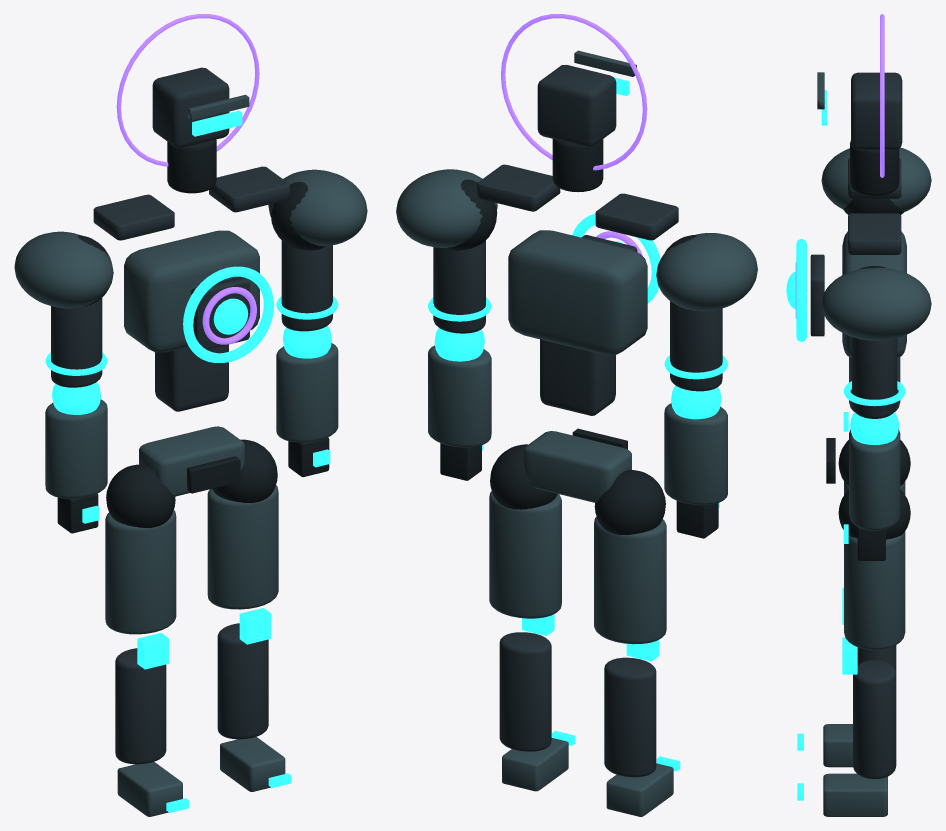
Rendered from taker-agent.glb.
The picture shows the model from 3 angles, left to right: view 1: azimuth 30°, elevation 25°; view 2: azimuth 150°, elevation 25°; view 3: azimuth 270°, elevation 25°; orthographic projection. The views are drawn at different scales.
Parts seen in each view (by area): view 1: ChestArmor, rightThighArmor, leftThighArmor, rightShoulderCapArmor, leftForearmArmor, rightForearmArmor, leftShinArmor, rightShinArmor, leftShoulderCapArmor, HeadShell, leftUpperArmArmor, PelvisArmor (+24 smaller); view 2: ChestArmor, leftThighArmor, rightThighArmor, rightShoulderCapArmor, leftShinArmor, rightShinArmor, leftForearmArmor, rightForearmArmor, HeadShell, PelvisArmor, leftShoulderCapArmor, Abdomen (+17 smaller); view 3: leftShoulderCapArmor, leftThighArmor, leftShinArmor, leftForearmArmor, HeadShell, leftUpperArmArmor, rightShoulderCapArmor, leftBootArmor, CollarLeft, NeckColumn, ChestArmor, rightBootArmor (+15 smaller).
Boxes of the visible parts, box(x1,y1,x2,y2) form: ChestArmor: box(124, 230, 259, 352); rightThighArmor: box(105, 510, 176, 634); leftThighArmor: box(207, 485, 278, 609); rightShoulderCapArmor: box(14, 231, 113, 308); leftForearmArmor: box(276, 343, 338, 442); rightForearmArmor: box(45, 399, 107, 498); leftShinArmor: box(217, 623, 268, 739); rightShinArmor: box(115, 648, 166, 764); leftShoulderCapArmor: box(268, 169, 367, 246); HeadShell: box(152, 67, 229, 147); leftUpperArmArmor: box(281, 240, 332, 331); PelvisArmor: box(139, 426, 244, 496); ChestArmor: box(508, 230, 647, 355); leftThighArmor: box(489, 491, 561, 618); rightThighArmor: box(594, 516, 666, 644); rightShoulderCapArmor: box(656, 233, 757, 311); leftShinArmor: box(499, 632, 551, 751); rightShinArmor: box(604, 657, 656, 777); leftForearmArmor: box(428, 345, 491, 447); rightForearmArmor: box(664, 403, 727, 505); HeadShell: box(537, 64, 616, 147); PelvisArmor: box(524, 431, 631, 502); leftShoulderCapArmor: box(396, 169, 497, 247); Abdomen: box(540, 339, 615, 415); leftShoulderCapArmor: box(821, 267, 931, 340); leftThighArmor: box(844, 531, 905, 649); leftShinArmor: box(853, 660, 896, 779); leftForearmArmor: box(849, 433, 900, 530); HeadShell: box(851, 72, 902, 149); leftUpperArmArmor: box(852, 337, 897, 418); rightShoulderCapArmor: box(821, 147, 931, 212); leftBootArmor: box(823, 773, 887, 816); CollarLeft: box(848, 213, 901, 254); NeckColumn: box(850, 140, 899, 195); ChestArmor: box(842, 231, 906, 357); rightBootArmor: box(823, 724, 852, 767).
Size of the model in its own units: 2.04 by 4.43 by 0.765.
